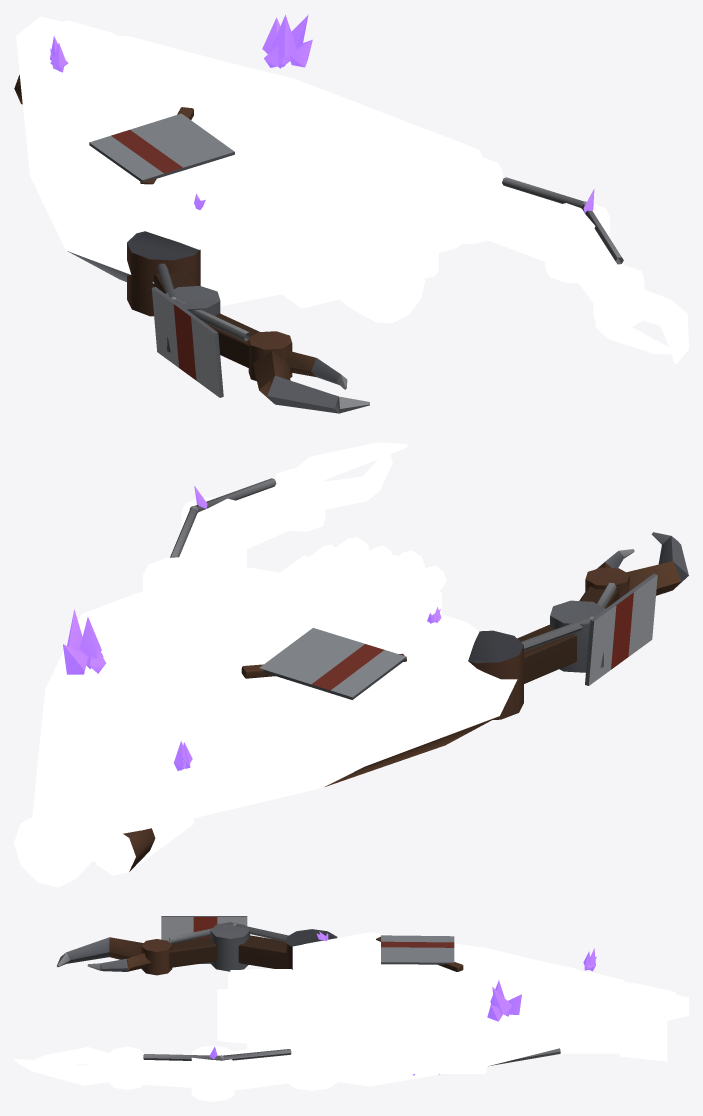
File: Ferrox_Jaeger.d9cc49fa76.glb
3 views of the same model, one above another, from view 1: azimuth 30°, elevation 25°; view 2: azimuth 150°, elevation 25°; view 3: azimuth 270°, elevation 25° (orthographic). The views are drawn at different scales.
Visible parts, largest first — view 1: Ferrox_Jaeger, arm_r, arm_l; view 2: Ferrox_Jaeger, arm_r, arm_l; view 3: Ferrox_Jaeger, arm_r, arm_l.
Part boxes in pixels (box(x1,y1,x2,y2)): Ferrox_Jaeger: box(14, 14, 503, 323); arm_r: box(469, 177, 688, 363); arm_l: box(151, 263, 369, 413); Ferrox_Jaeger: box(14, 537, 523, 887); arm_r: box(170, 442, 407, 566); arm_l: box(517, 532, 688, 685); Ferrox_Jaeger: box(217, 929, 688, 1090); arm_r: box(14, 1043, 298, 1101); arm_l: box(57, 916, 288, 975).
Size of the model in its own units: 7.89 by 2.73 by 15.67.
